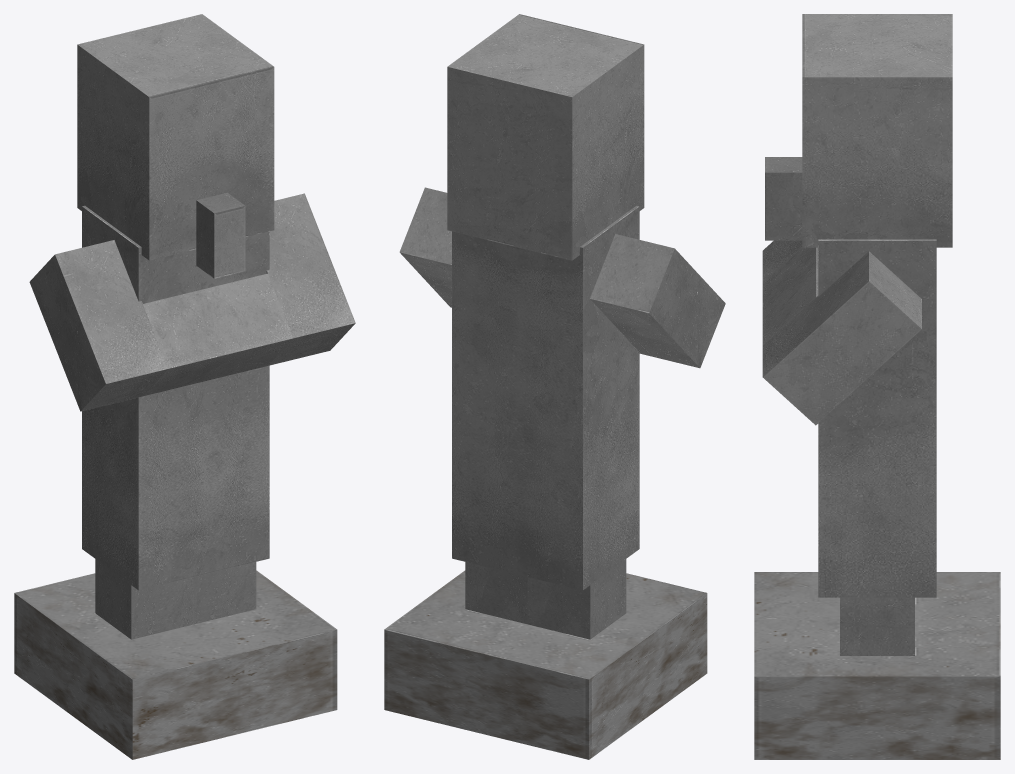
The model's file is minecraft villager statue v1.fbx.
3 views of the same model, side by side, from view 1: azimuth 30°, elevation 25°; view 2: azimuth 150°, elevation 25°; view 3: azimuth 270°, elevation 25° (orthographic). The views are drawn at different scales.
Visible parts, largest first — view 1: Villager, stone; view 2: Villager, stone; view 3: Villager, stone.
Boxes of the visible parts, left/top/right/bottom form: Villager: left=29, top=14, right=355, bottom=639; stone: left=14, top=570, right=337, bottom=759; Villager: left=399, top=14, right=725, bottom=639; stone: left=384, top=570, right=707, bottom=759; Villager: left=762, top=14, right=952, bottom=655; stone: left=754, top=572, right=1000, bottom=759.
Size of the model in its own units: 81.28 by 198 by 66.67.
